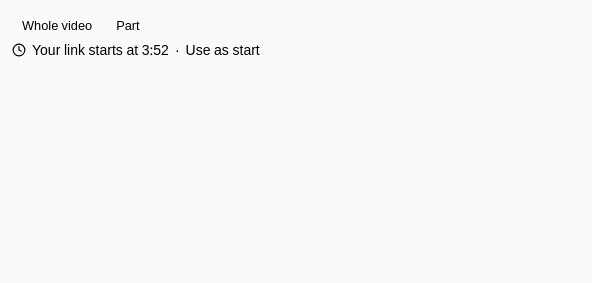
it: Part of video on the Format screen › offers the link's start time without applying it
Click the button with test id "video-part-use-url-start".
click(223, 50)  # box [186, 40, 260, 60]
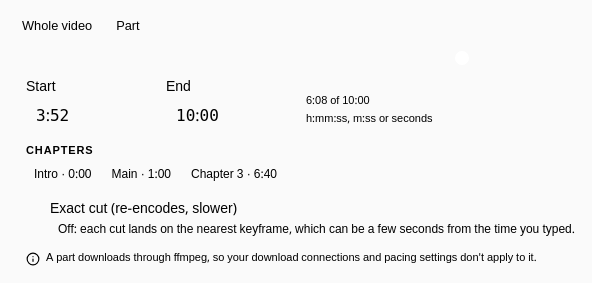
Result: the element with test id "video-part-url-start" is gone
